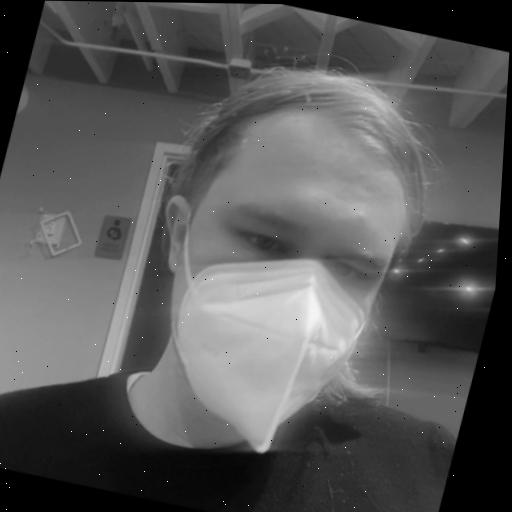mask: (46, 28, 450, 493)
